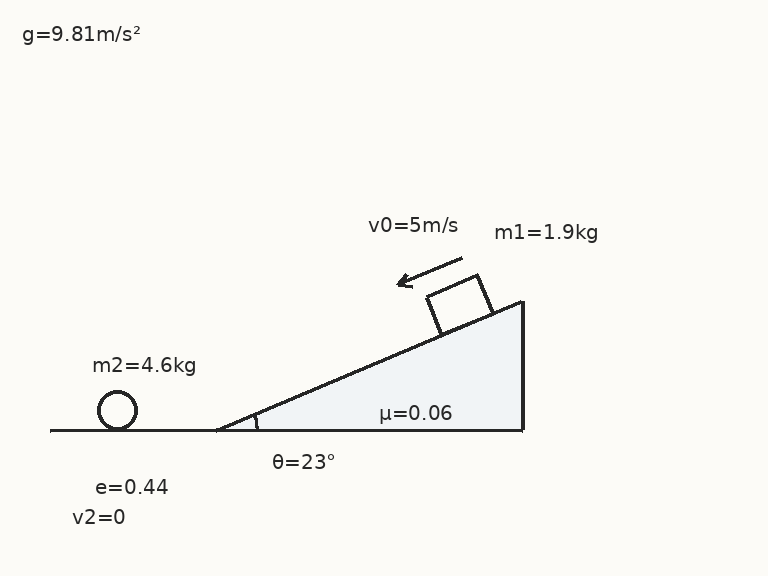ball: (95, 388, 139, 432)
block: (424, 273, 495, 337)
ramp: (215, 299, 524, 432)
